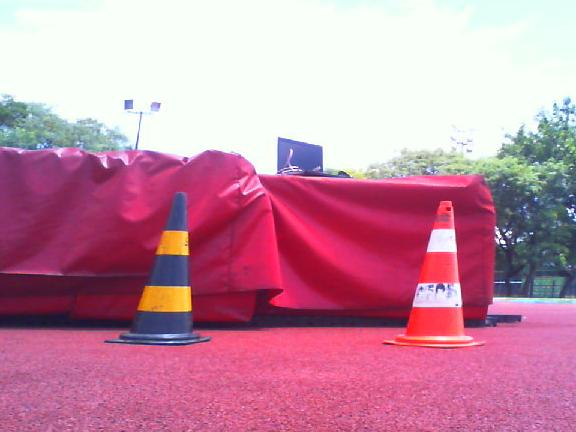0 cone: (103, 191, 213, 345), (382, 201, 487, 349)
